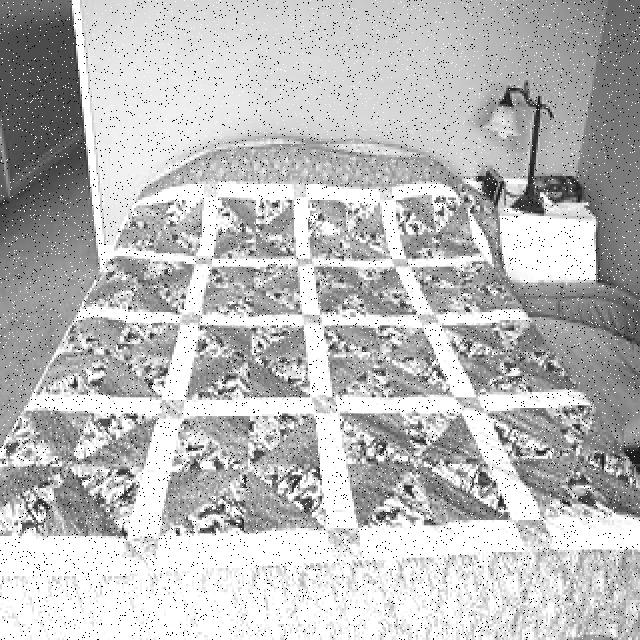bed: (24, 122, 605, 605)
